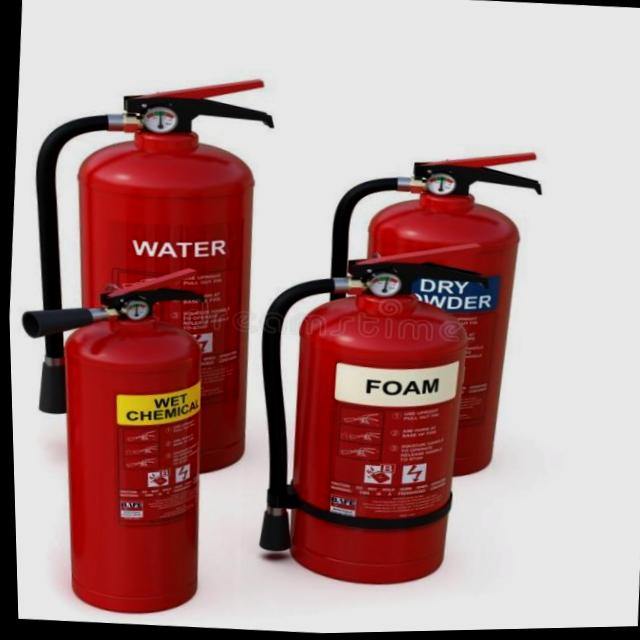FireExtinguisher: (6, 61, 292, 492), (233, 228, 503, 598), (301, 131, 553, 494), (6, 244, 220, 625)
